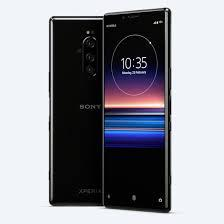Smartphone: (104, 5, 177, 213), (52, 15, 105, 212)
